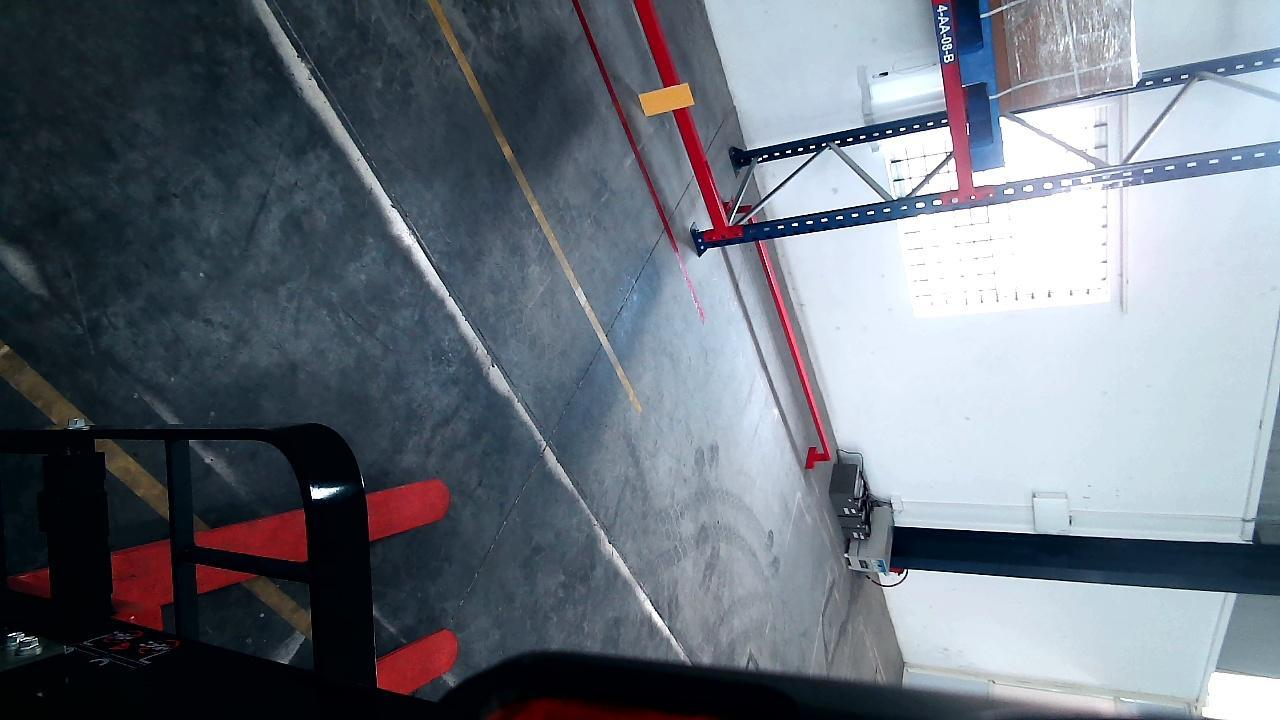red_line: (574, 5, 705, 322)
yellow_line: (2, 339, 310, 636), (427, 0, 643, 413)
